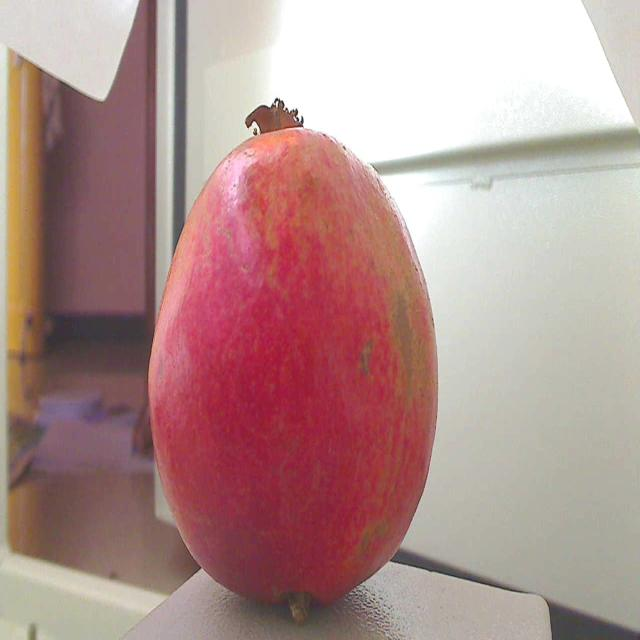pomegranate: (135, 78, 437, 629)
